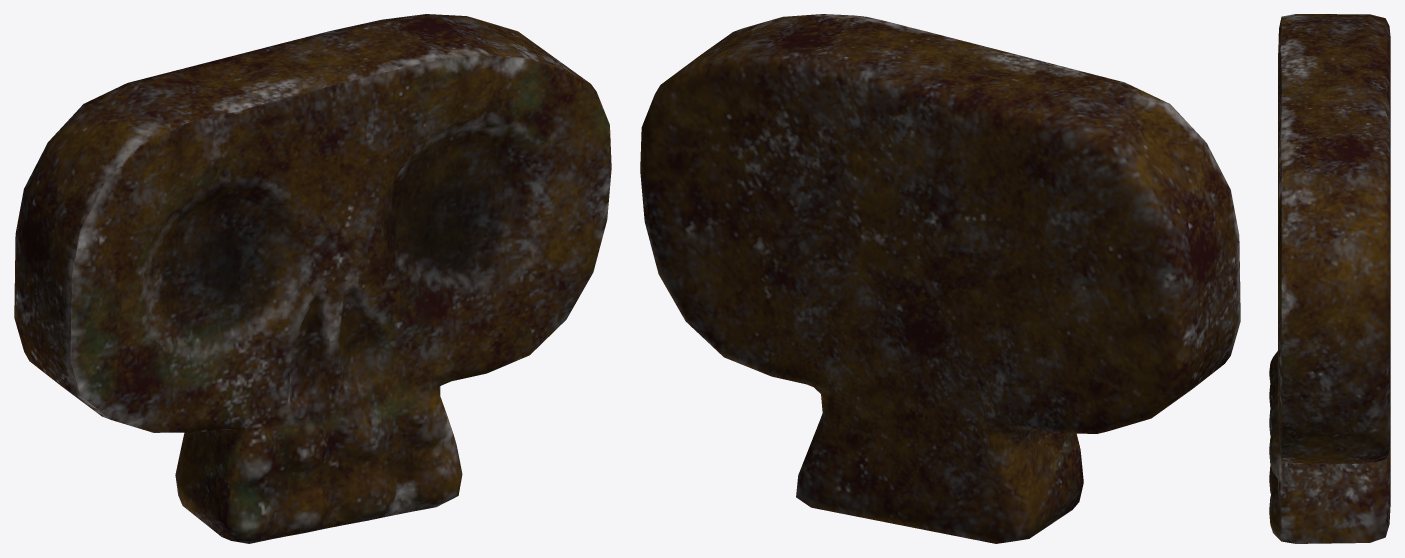
The model's file is stone_skull.glb.
3 renders of one model, left to right at view 1: azimuth 30°, elevation 25°; view 2: azimuth 150°, elevation 25°; view 3: azimuth 270°, elevation 25°, orthographic. The views are drawn at different scales.
Visible parts, largest first — view 1: calavera_12_0; view 2: calavera_12_0; view 3: calavera_12_0.
Boxes of the visible parts, box(x1,y1,x2,y2) form: calavera_12_0: box(14, 14, 611, 543); calavera_12_0: box(640, 14, 1240, 543); calavera_12_0: box(1269, 14, 1390, 543).
Bounding box in the file's own units: 0.761 × 0.6021 × 0.1632.
1 material, 1 textured.
